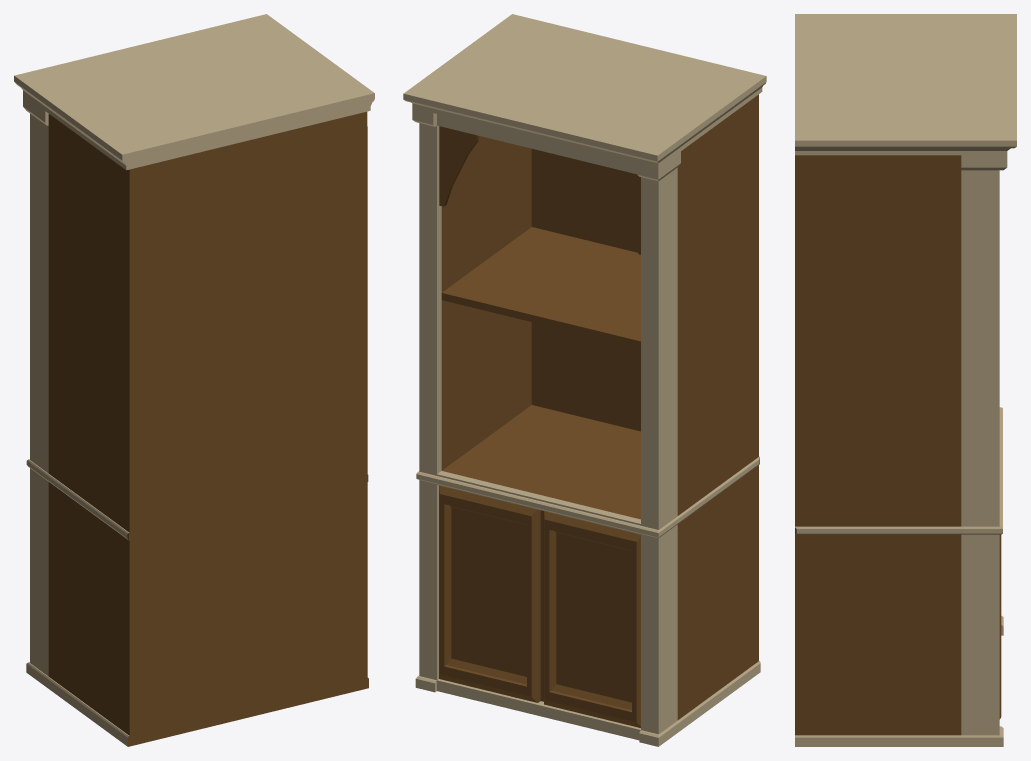
Rendered from Booshelf_Small.fbx.
3 views of the same model, side by side, from view 1: azimuth 30°, elevation 25°; view 2: azimuth 150°, elevation 25°; view 3: azimuth 270°, elevation 25° (orthographic). The views are drawn at different scales.
Parts seen in each view (by area): view 1: pCube508; view 2: pCube508; view 3: pCube508.
Boxes of the visible parts, box(x1,y1,x2,y2) form: pCube508: box(14, 14, 374, 746); pCube508: box(403, 14, 766, 746); pCube508: box(795, 14, 1016, 746).
Bounding box in the file's own units: 1.11 × 2.49 × 0.8213.
